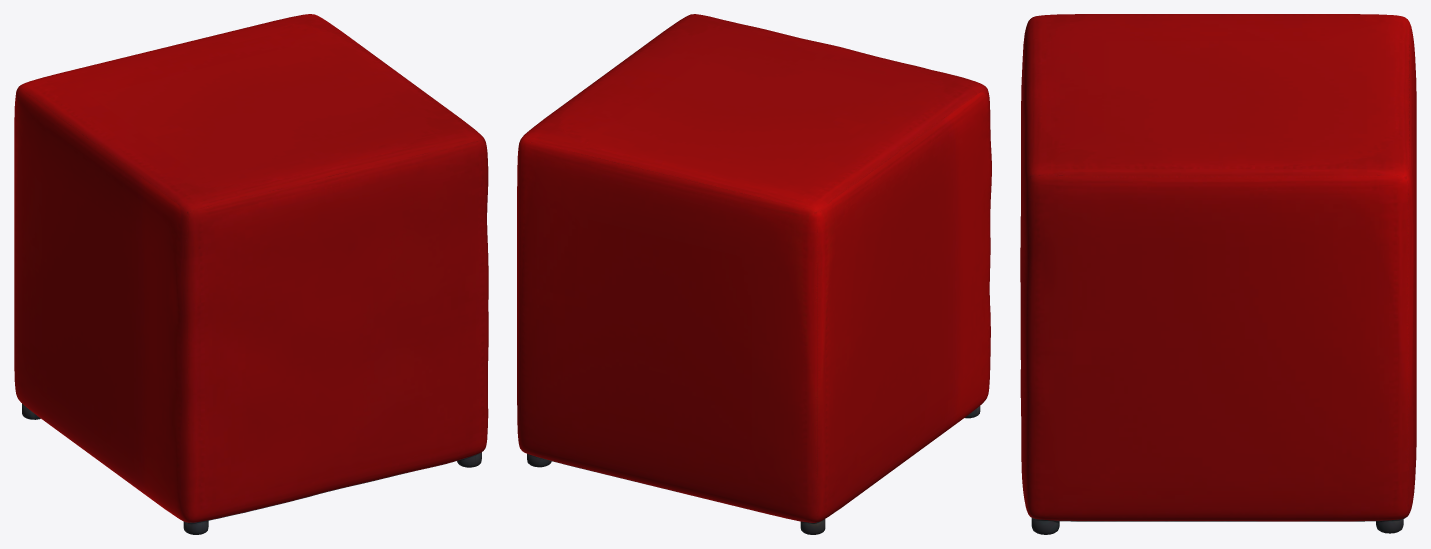
Rendered from pomp_i_red_artificial_leather.glb.
The picture shows the model from 3 angles, left to right: view 1: azimuth 30°, elevation 25°; view 2: azimuth 150°, elevation 25°; view 3: azimuth 270°, elevation 25°; orthographic projection. The views are drawn at different scales.
Visible parts, largest first — view 1: pomp_i-red; view 2: pomp_i-red; view 3: pomp_i-red.
Boxes of the visible parts, x1,y1,x2,y2 form: pomp_i-red: (14, 14, 488, 534); pomp_i-red: (517, 14, 991, 534); pomp_i-red: (1020, 14, 1416, 534).
Bounding box in the file's own units: 0.5 × 0.5127 × 0.501.
1 material, 1 textured.
